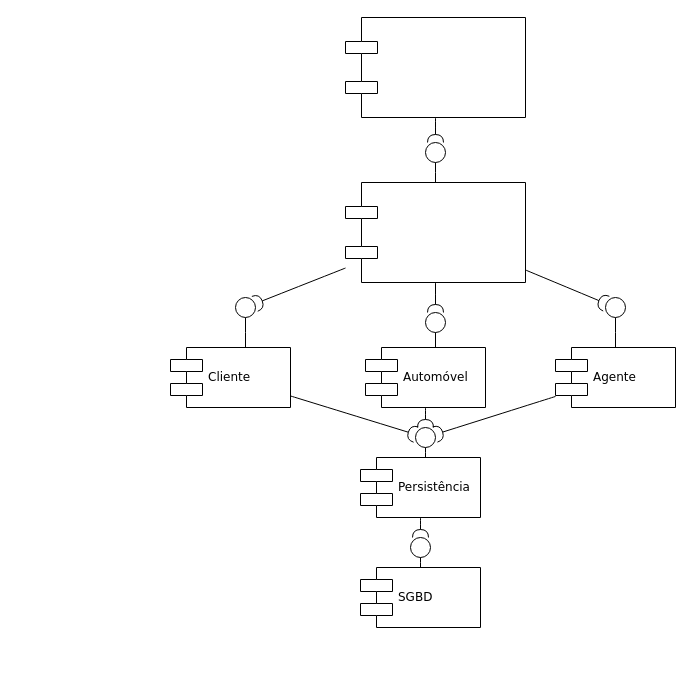
This 693x695 diagram has some shape labels left out. Here are the shapes that lost their labels. From the top down, the centre of each, then its label:
[435,67]: Gerenciamento de aluguel de carros
[435,232]: Gerenciamento de contrato
